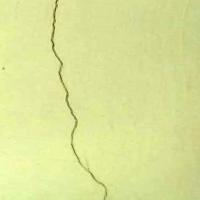crack: (27, 0, 115, 197)
